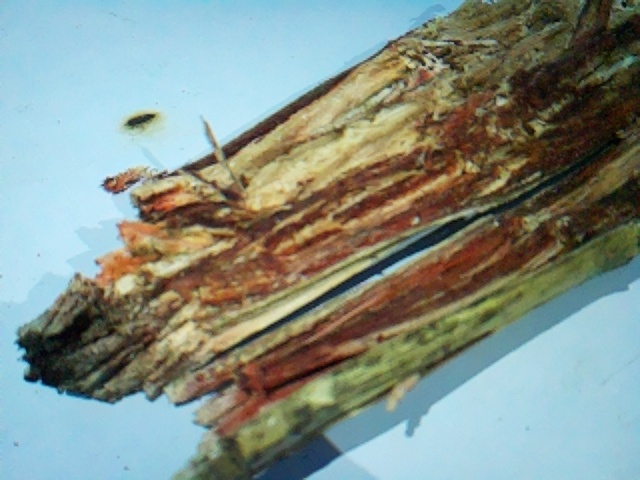Red-Rot: (131, 43, 617, 462)
